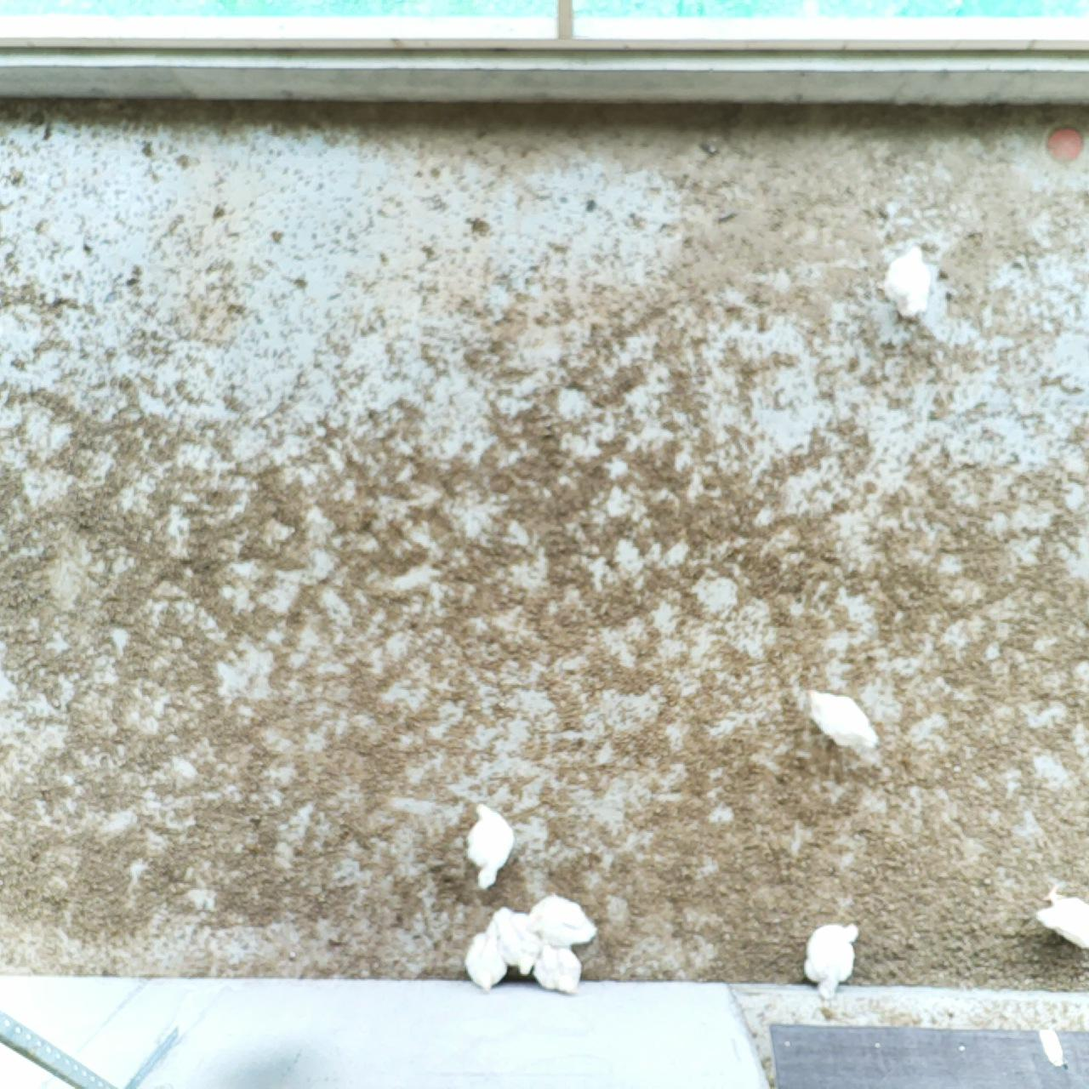chicken: (798, 684, 884, 761), (803, 911, 865, 1005), (463, 799, 522, 892), (873, 244, 938, 324), (521, 890, 601, 952), (1031, 883, 1089, 952), (490, 907, 540, 982), (530, 932, 584, 1000), (464, 925, 503, 988)
